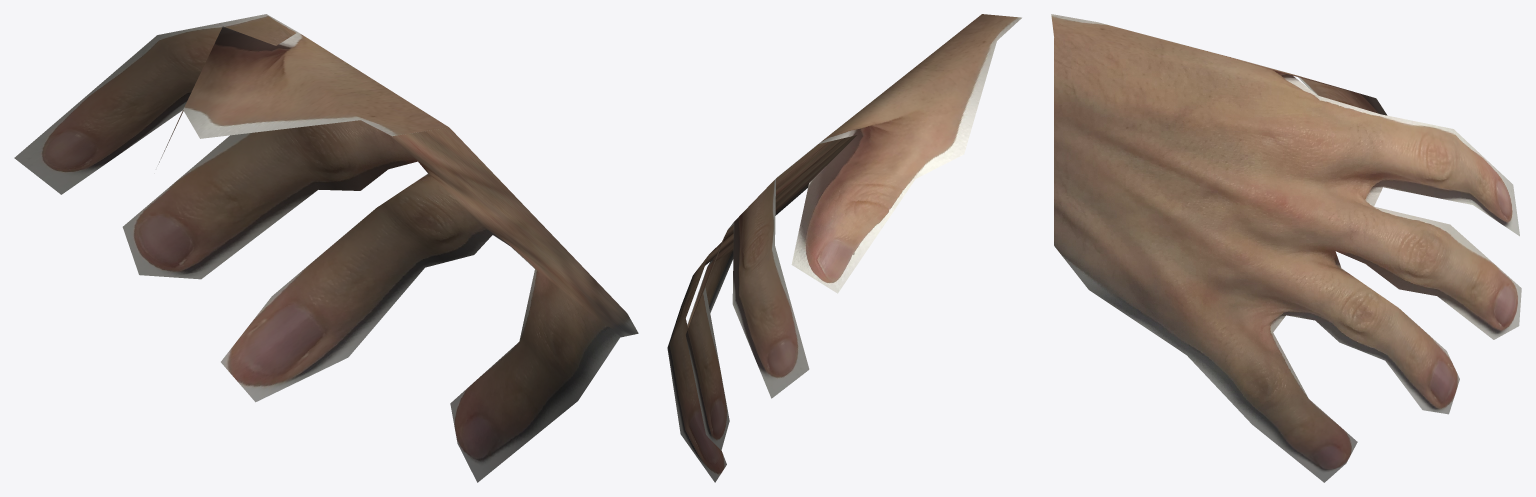
Rendered from LaMainDeHector.fbx.
3 renders of one model, left to right at view 1: azimuth 30°, elevation 25°; view 2: azimuth 150°, elevation 25°; view 3: azimuth 270°, elevation 25°, orthographic. The views are drawn at different scales.
Parts seen in each view (by area): view 1: LaMainDeHector; view 2: LaMainDeHector; view 3: LaMainDeHector.
Part boxes in pixels (x1,y1,x2,y2): LaMainDeHector: [14, 14, 638, 482]; LaMainDeHector: [667, 14, 1021, 482]; LaMainDeHector: [1051, 14, 1521, 482].
Bounding box in the file's own units: 0.4824 × 0.6736 × 0.7662.
